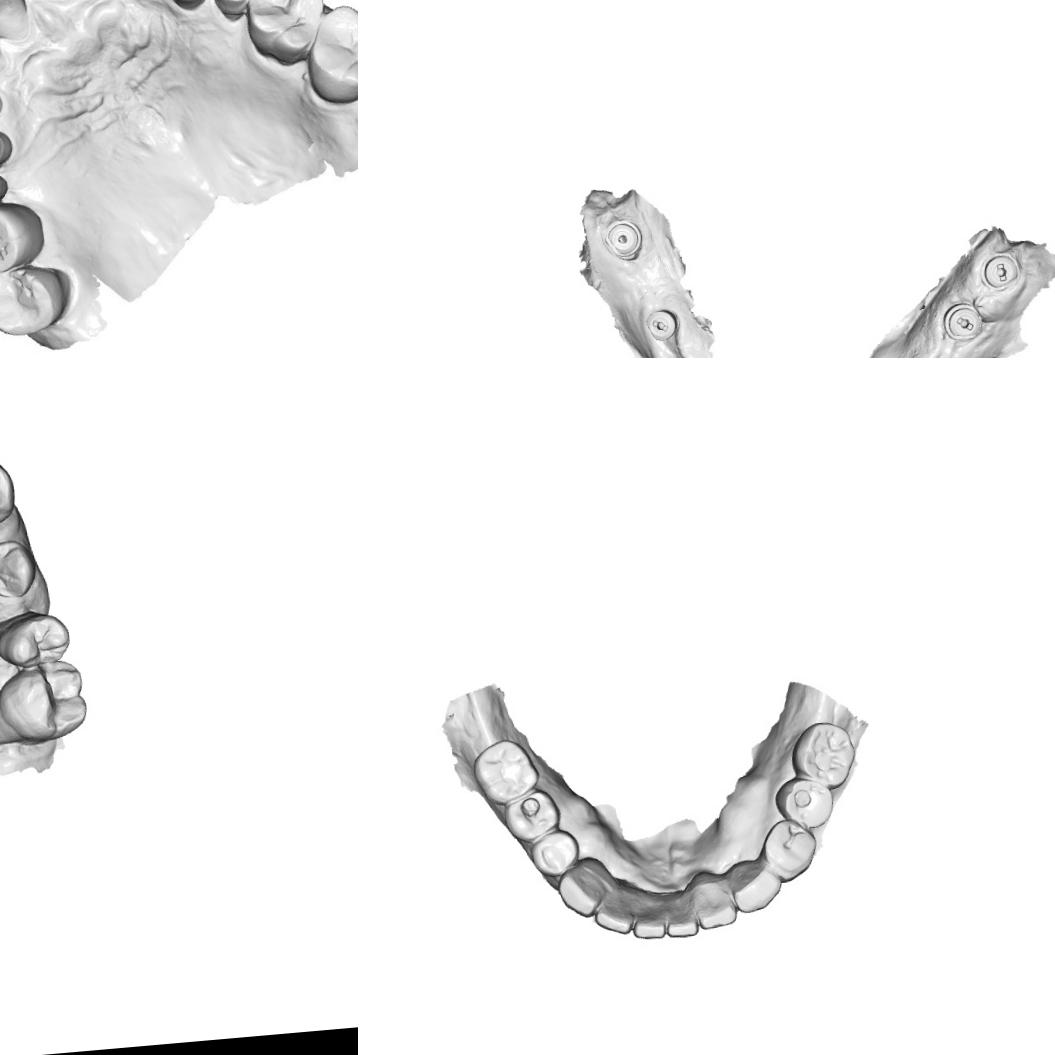canine: (728, 858, 785, 914), (554, 861, 607, 920), (0, 454, 18, 533)
implant: (604, 217, 644, 259)
implant_minus: (980, 247, 1023, 291), (941, 299, 983, 342), (641, 302, 681, 344)
incisor: (694, 884, 738, 931), (592, 893, 637, 937), (629, 898, 668, 942), (662, 898, 700, 939), (0, 0, 29, 39)
molar: (0, 655, 91, 746), (0, 260, 76, 339), (469, 735, 542, 808), (787, 718, 859, 792), (246, 0, 325, 61), (309, 5, 358, 98), (0, 198, 47, 274)
premolar: (0, 607, 73, 672), (758, 815, 820, 885), (771, 773, 836, 832), (500, 786, 564, 844), (527, 826, 582, 879), (0, 534, 39, 602), (203, 0, 262, 16)
